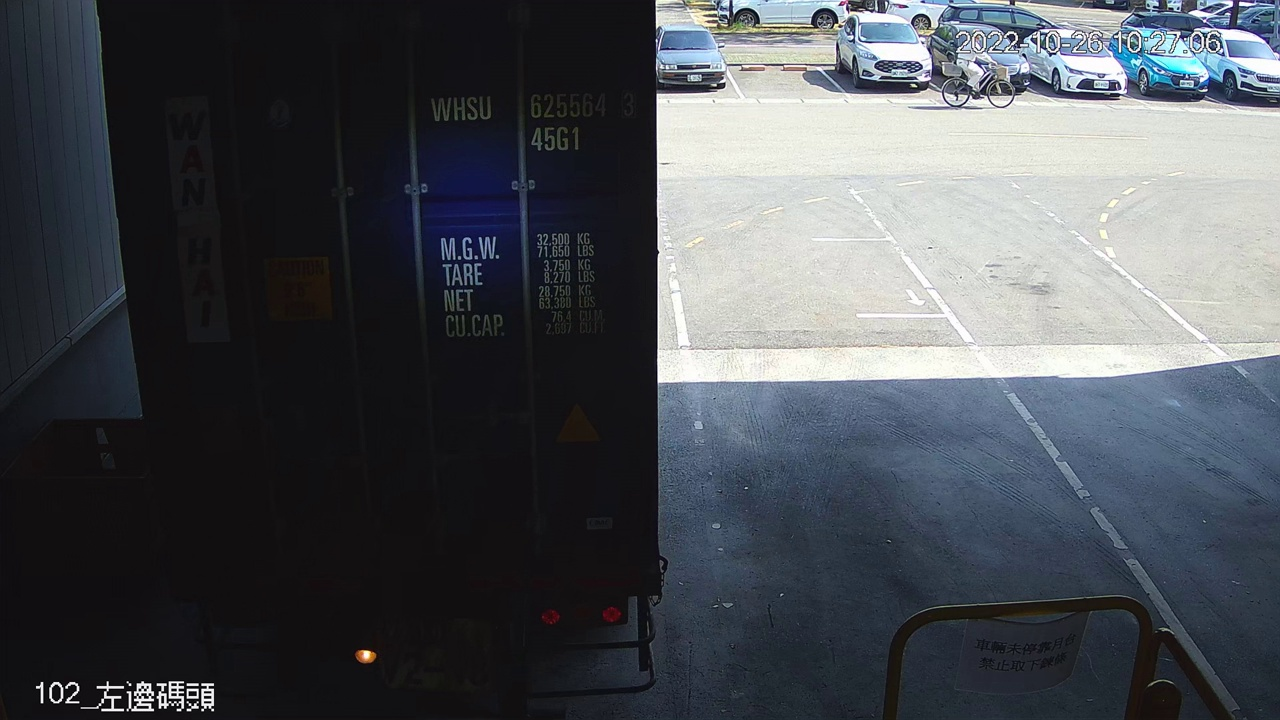container: (422, 85, 643, 160)
